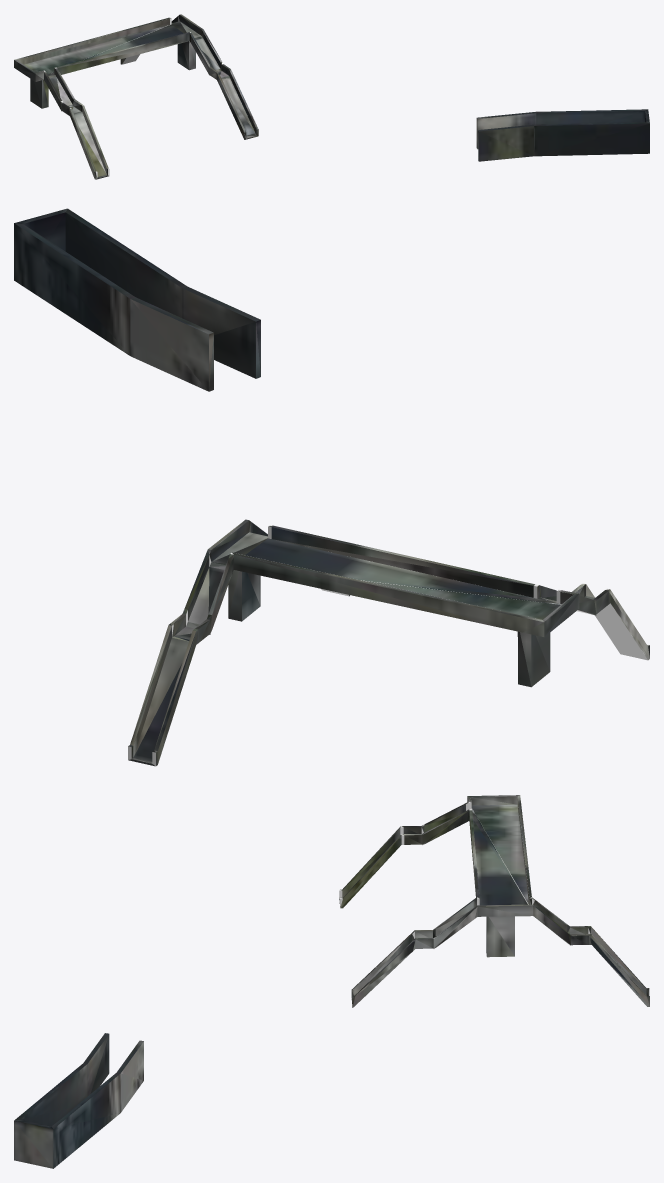
Rendered from bridge_0_-3.glb.
3 views of the same model, one above another, from view 1: azimuth 30°, elevation 25°; view 2: azimuth 150°, elevation 25°; view 3: azimuth 270°, elevation 25° (orthographic). The views are drawn at different scales.
Bounding box in the file's own units: 75.38 × 12.31 × 69.09.
3 materials, 2 textured.
